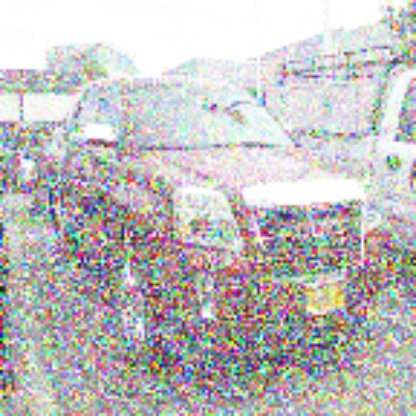Vehicle: (51, 74, 390, 370)
